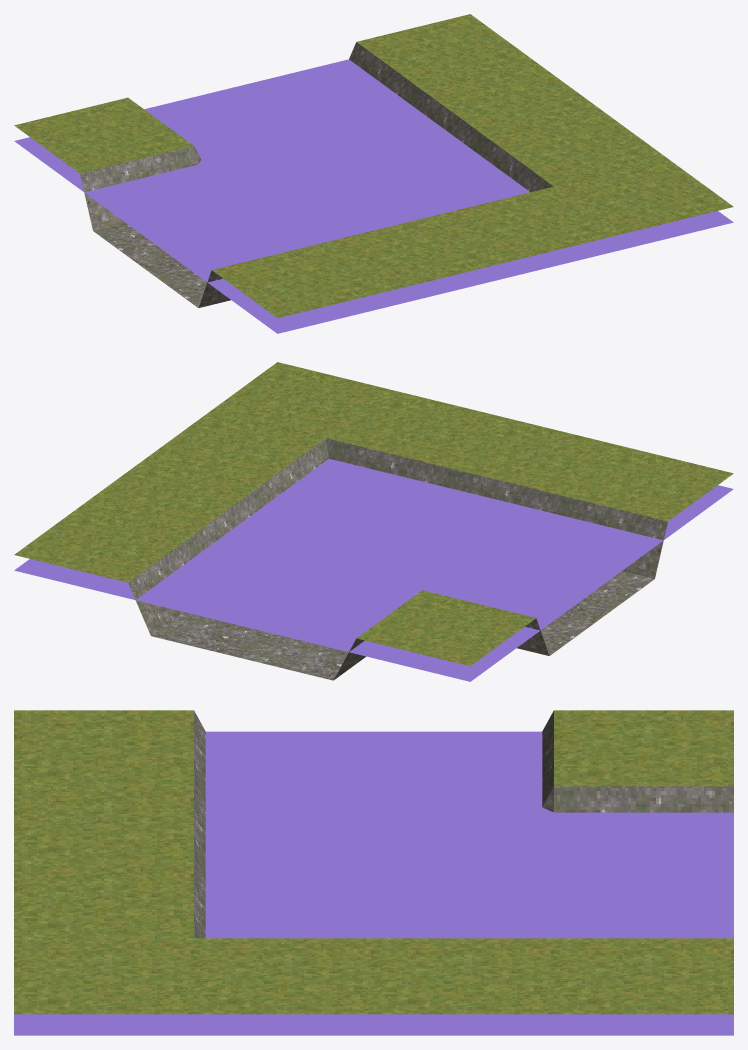
The model's file is piece_river_corner.glb.
The picture shows the model from 3 angles, top to bottom: view 1: azimuth 30°, elevation 25°; view 2: azimuth 150°, elevation 25°; view 3: azimuth 270°, elevation 25°; orthographic projection. The views are drawn at different scales.
Visible parts, largest first — view 1: piece_river_corner; view 2: piece_river_corner; view 3: piece_river_corner.
Part boxes in pixels (<box>): piece_river_corner: <box>14,14,733,333</box>; piece_river_corner: <box>14,362,733,681</box>; piece_river_corner: <box>14,710,733,1035</box>.
Size of what is drawn, in the model's own units: 4 by 0.4 by 4.
Materials: 3 (2 with a texture image).
